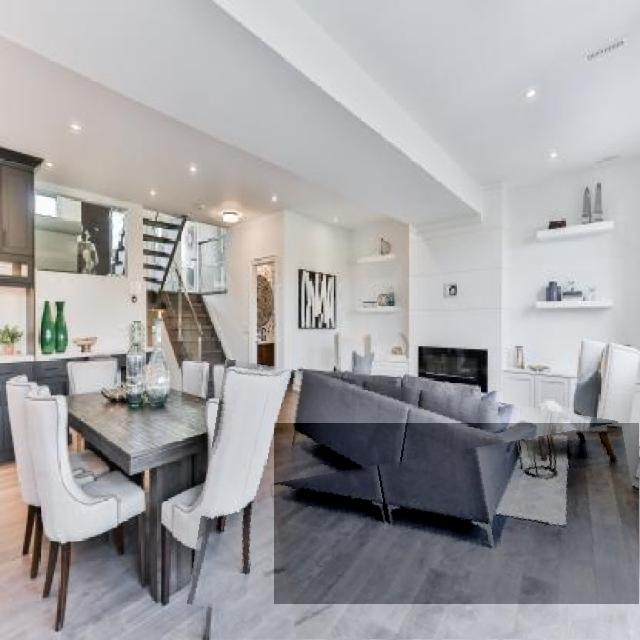floor: (187, 370, 568, 640), (274, 423, 640, 604)
